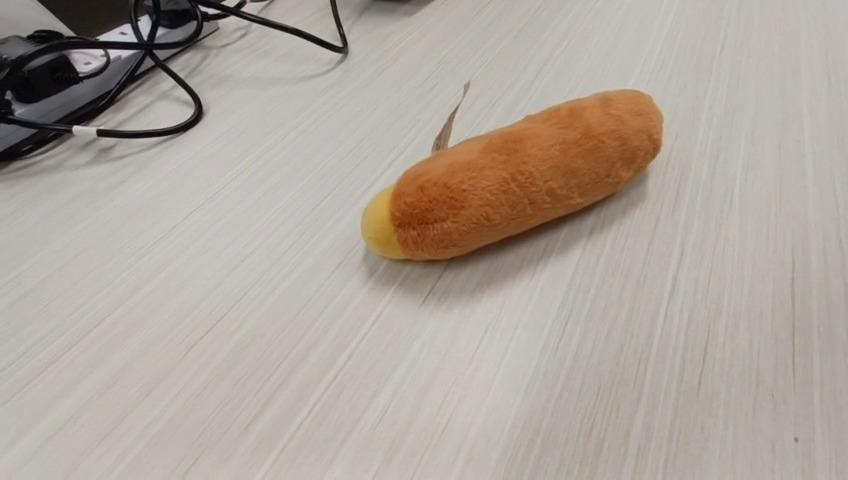hotdog: (359, 82, 664, 262)
